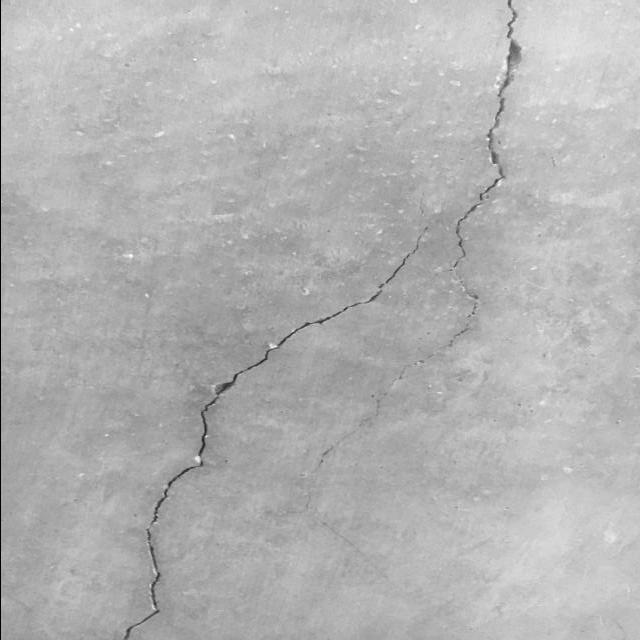SurfaceCrack: (47, 0, 595, 639)
